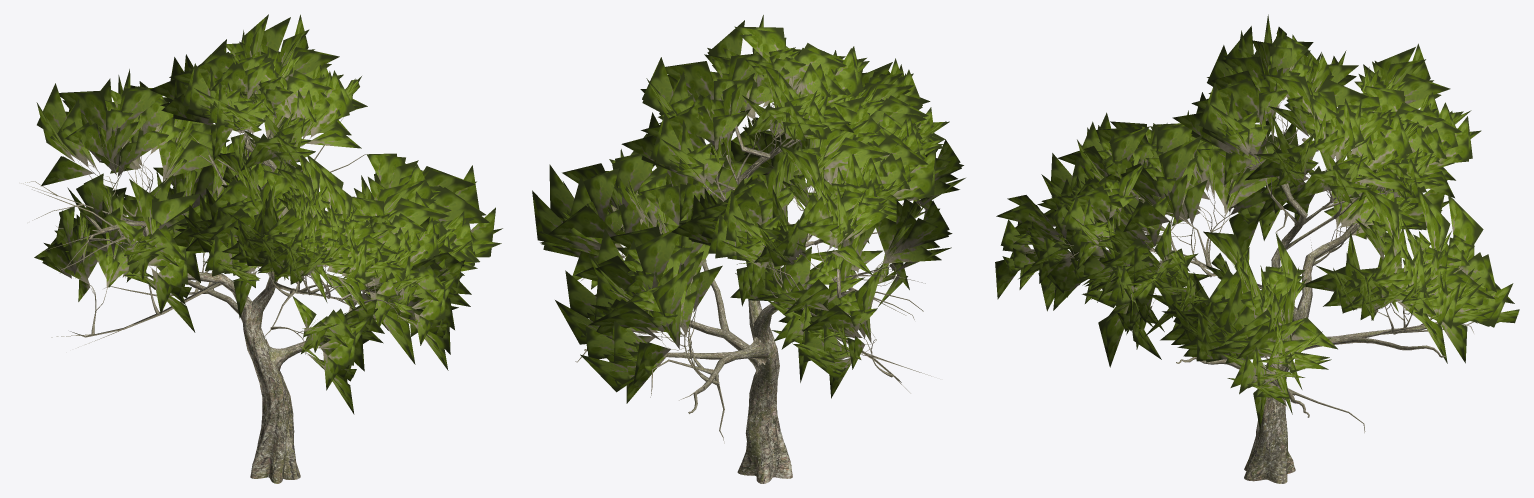
The model's file is oak9.obj.
3 views of the same model, side by side, from view 1: azimuth 30°, elevation 25°; view 2: azimuth 150°, elevation 25°; view 3: azimuth 270°, elevation 25° (orthographic). The views are drawn at different scales.
Visible parts, largest first — view 1: oak leaf, mossybark03; view 2: oak leaf, mossybark03; view 3: oak leaf, mossybark03.
Boxes of the visible parts, bbox=[...] form: oak leaf: bbox=[34, 14, 502, 414]; mossybark03: bbox=[21, 90, 415, 483]; oak leaf: bbox=[532, 15, 965, 403]; mossybark03: bbox=[575, 80, 931, 483]; oak leaf: bbox=[995, 14, 1519, 429]; mossybark03: bbox=[1035, 99, 1477, 483].
Bounding box in the file's own units: 881 × 879 × 966.
2 materials, 2 textured.
